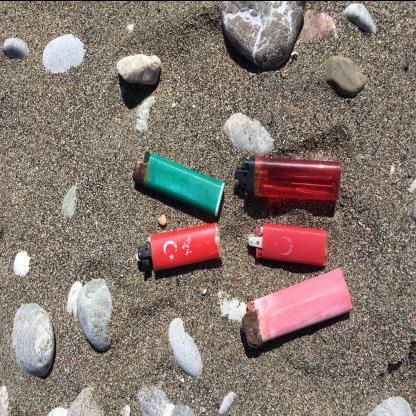diger: (68, 241, 150, 353), (198, 132, 266, 226), (135, 134, 195, 222), (216, 233, 262, 342), (150, 247, 194, 330)
